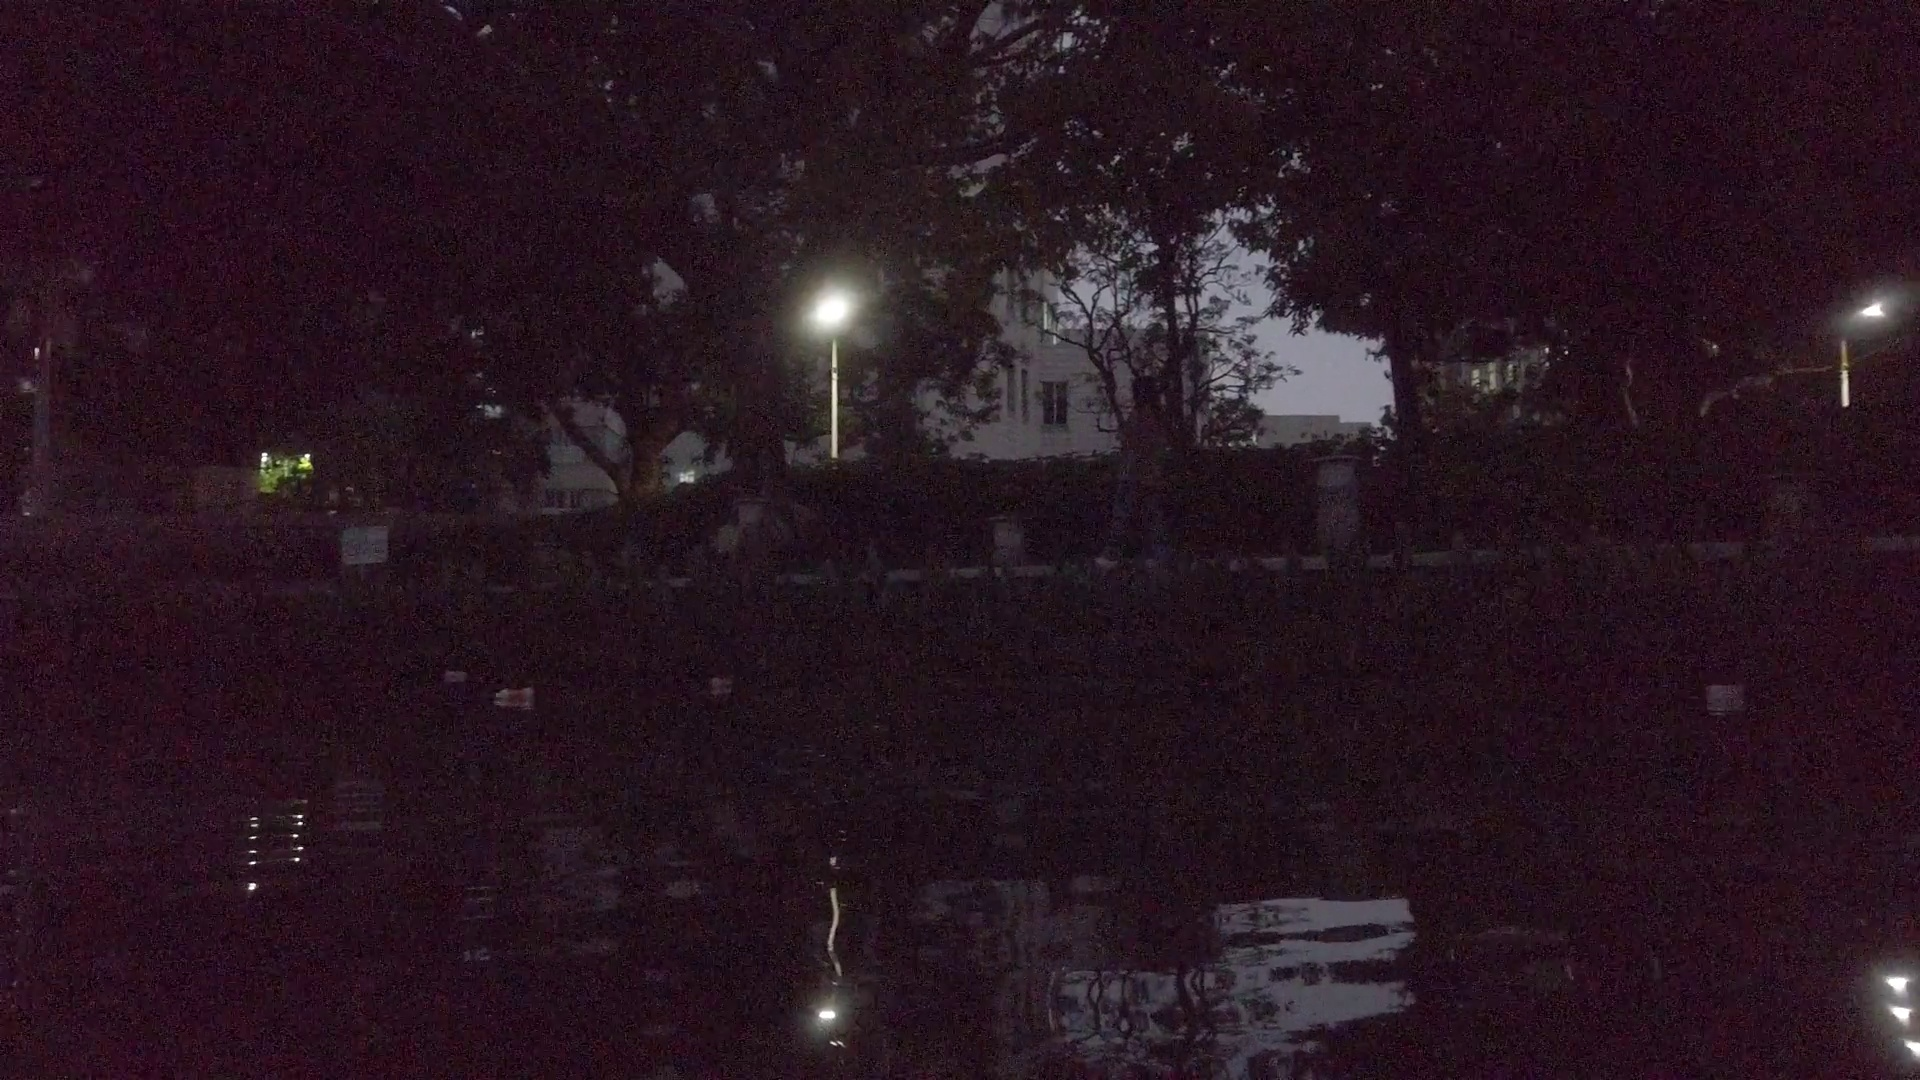bottle: (491, 688, 535, 702), (709, 676, 736, 688)
carton: (1705, 682, 1738, 699), (444, 670, 465, 680)
